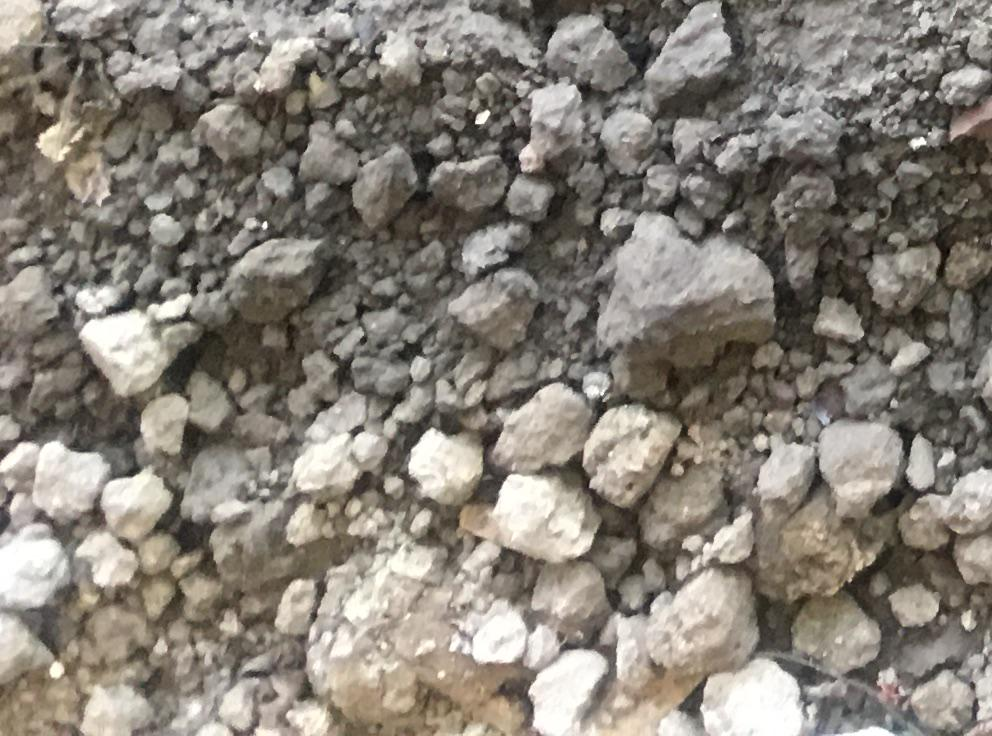block: (304, 559, 515, 719), (595, 210, 779, 376), (647, 562, 762, 678), (584, 397, 684, 510), (492, 469, 599, 568), (814, 419, 907, 525), (227, 243, 329, 326)
